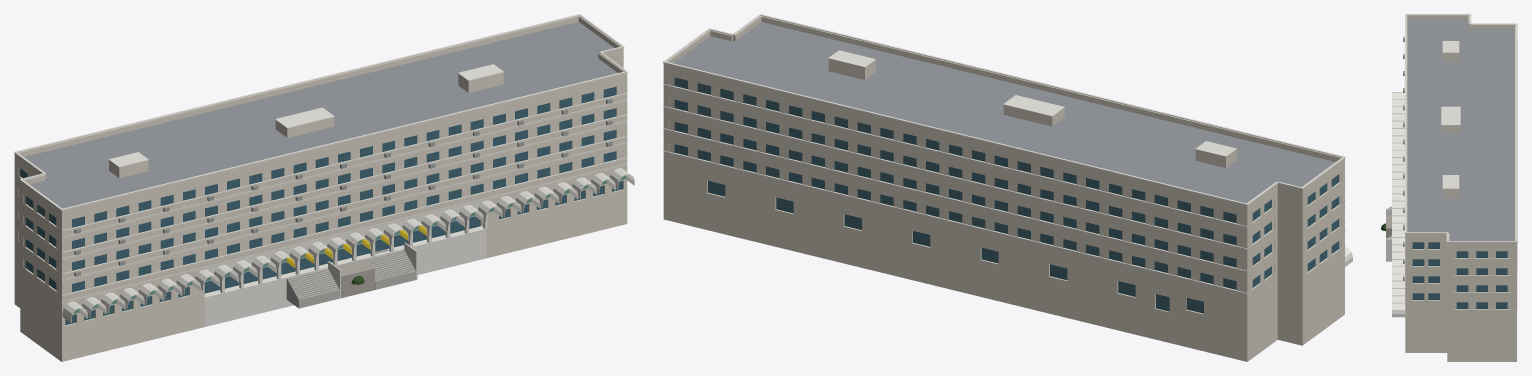
3 renders of one model, left to right at view 1: azimuth 30°, elevation 25°; view 2: azimuth 150°, elevation 25°; view 3: azimuth 270°, elevation 25°, orthographic. The views are drawn at different scales.
Parts seen in each view (by area): view 1: s11__cream-wall, s11__roof, s11__white-arch-wall, s11__glass, s11__trim, s11__spandrel-wall, s11__granite-stone-step, s11__frame, s11__door-glass, s11__ac, s11__arch-white-membrane, s11__planter-stone-wall (+2 smaller); view 2: s11__cream-wall, s11__roof, s11__glass, s11__trim, s11__frame; view 3: s11__roof, s11__cream-wall, s11__white-arch-wall, s11__trim, s11__glass, s11__frame, s11__ac, s11__planter-stone-wall.
Part boxes in pixels (left/top/right/bottom): s11__cream-wall: left=14, top=16, right=627, bottom=361; s11__roof: left=24, top=21, right=617, bottom=208; s11__white-arch-wall: left=62, top=168, right=634, bottom=326; s11__glass: left=20, top=86, right=622, bottom=324; s11__trim: left=14, top=14, right=627, bottom=296; s11__spandrel-wall: left=61, top=99, right=627, bottom=303; s11__granite-stone-step: left=286, top=250, right=416, bottom=308; s11__frame: left=20, top=88, right=622, bottom=324; s11__door-glass: left=204, top=216, right=479, bottom=292; s11__ac: left=74, top=98, right=612, bottom=276; s11__arch-white-membrane: left=79, top=175, right=634, bottom=318; s11__planter-stone-wall: left=336, top=259, right=374, bottom=298; s11__cream-wall: left=663, top=16, right=1344, bottom=361; s11__roof: left=673, top=22, right=1335, bottom=203; s11__glass: left=674, top=77, right=1339, bottom=312; s11__trim: left=663, top=14, right=1345, bottom=293; s11__frame: left=674, top=79, right=1339, bottom=313; s11__roof: left=1407, top=19, right=1514, bottom=240; s11__cream-wall: left=1405, top=15, right=1516, bottom=361; s11__white-arch-wall: left=1386, top=92, right=1405, bottom=317; s11__trim: left=1404, top=14, right=1517, bottom=309; s11__glass: left=1412, top=242, right=1507, bottom=308; s11__frame: left=1413, top=242, right=1507, bottom=308; s11__ac: left=1403, top=37, right=1404, bottom=280; s11__planter-stone-wall: left=1386, top=215, right=1391, bottom=238.
Size of the model in its own units: 100 by 25.92 by 25.55.
